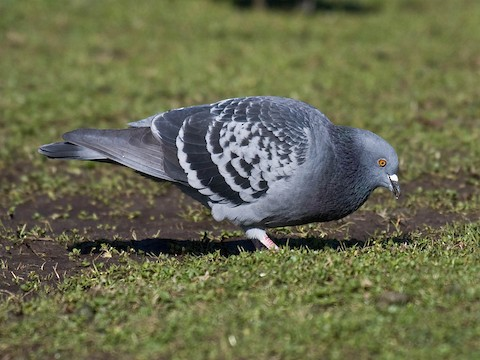pigeon: (33, 94, 409, 260)
